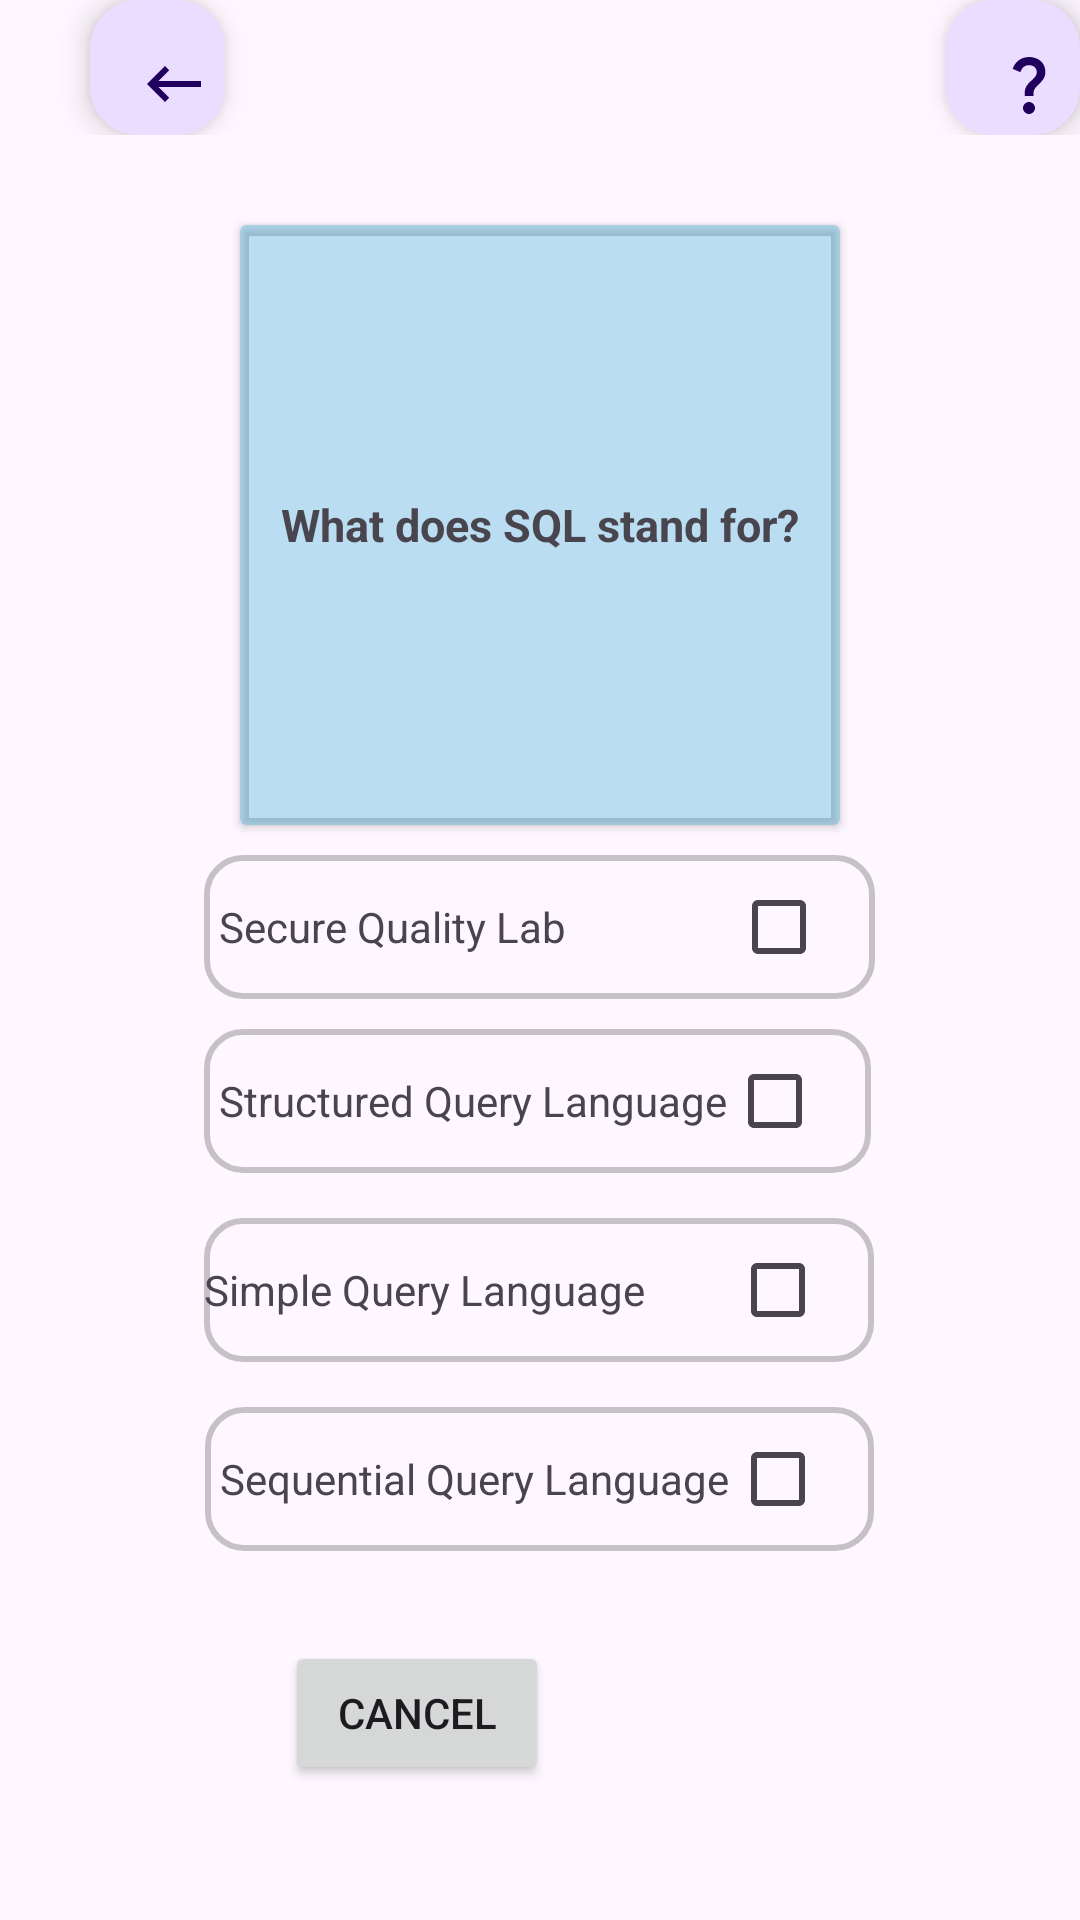

Icons on this 1080px x 1920px Android screen, each with the point to tap as [x,y]:
keyboard backspace: [157,67]
question mark: [1012,67]
